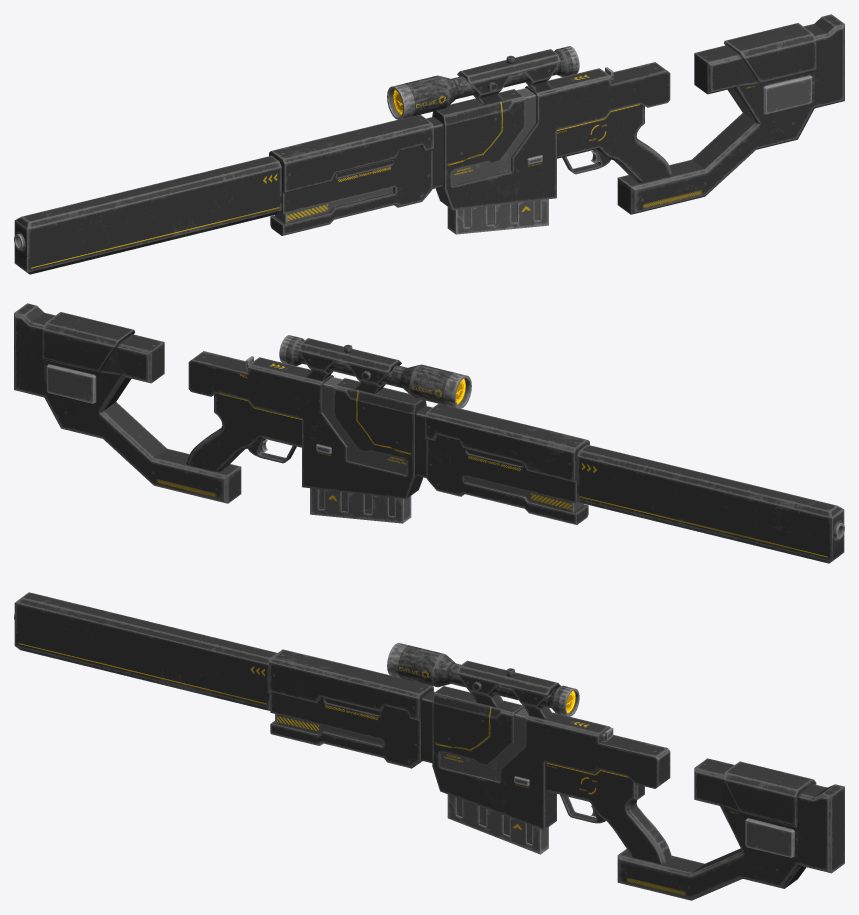
File: sniper.fbx
3 views of the same model, one above another, from view 1: azimuth 30°, elevation 25°; view 2: azimuth 150°, elevation 25°; view 3: azimuth 330°, elevation 25° (orthographic).
Visible parts, largest first — view 1: Body8_BlackCoat_0; view 2: Body8_BlackCoat_0; view 3: Body8_BlackCoat_0.
Part boxes in pixels (x1,y1,x2,y2): Body8_BlackCoat_0: (14,14,844,274); Body8_BlackCoat_0: (14,303,844,563); Body8_BlackCoat_0: (14,592,844,900).
Bounding box in the file's own units: 2.61 × 0.1169 × 0.5482.
4 materials, 4 textured.
